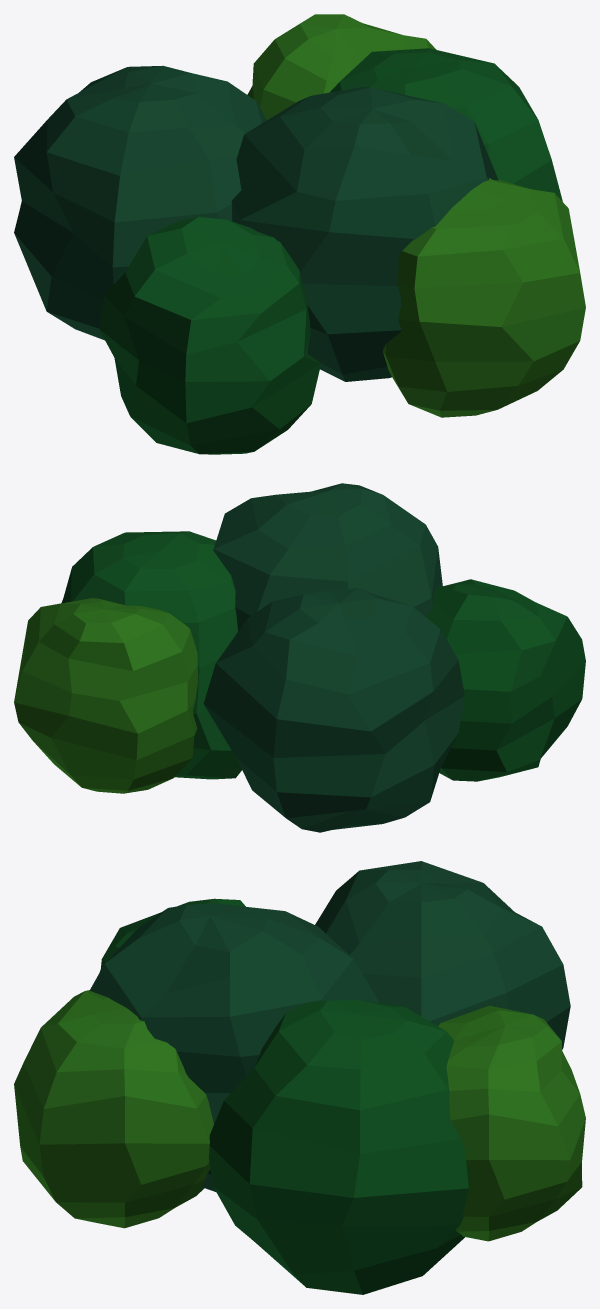
File: george_w 3.fbx
The picture shows the model from 3 angles, top to bottom: view 1: azimuth 30°, elevation 25°; view 2: azimuth 150°, elevation 25°; view 3: azimuth 270°, elevation 25°; orthographic projection. The views are drawn at different scales.
Visible parts, largest first — view 1: george_w 3; view 2: george_w 3; view 3: george_w 3.
Boxes of the visible parts, bbox=[...] form: george_w 3: bbox=[14, 14, 585, 454]; george_w 3: bbox=[14, 483, 585, 832]; george_w 3: bbox=[14, 861, 585, 1294].
Size of the model in its own units: 228 by 132 by 230.
